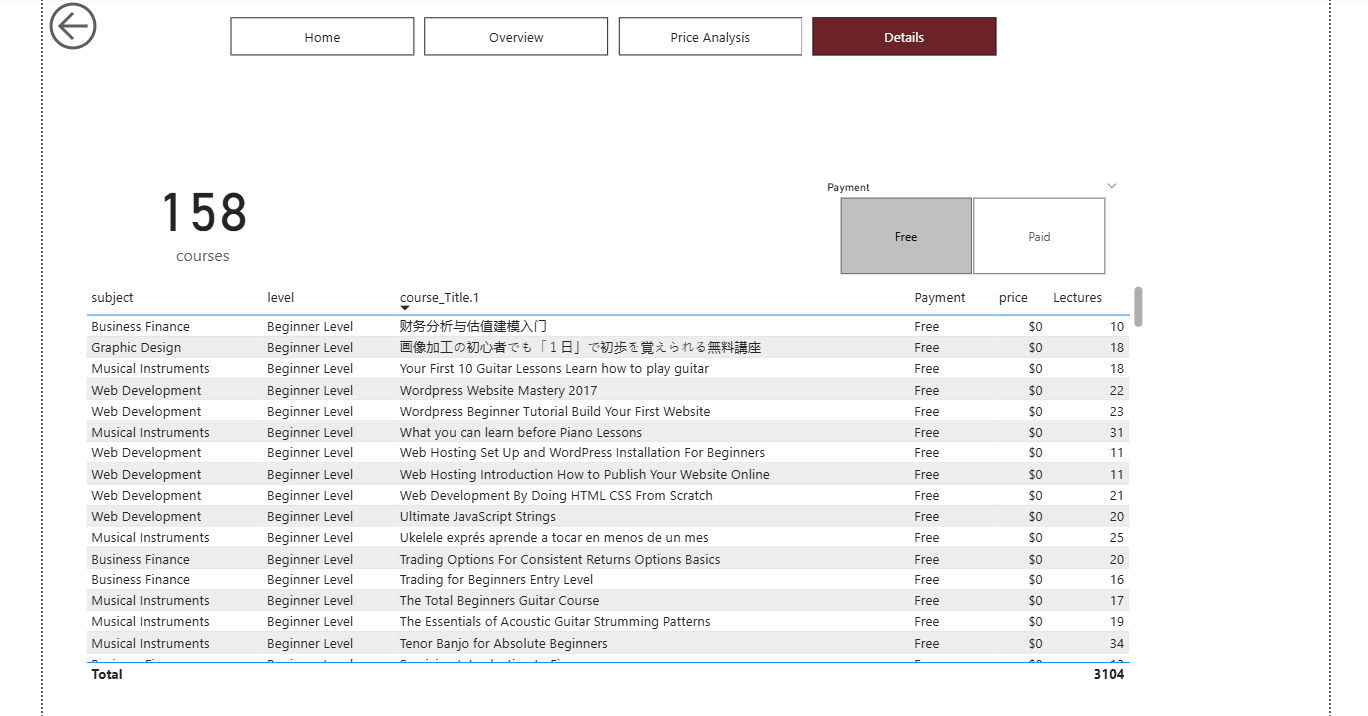

What the dashboard file says about the page in this screenshot:
{"tool":"powerbi","page":{"name":"Details","canvas":[1280,720],"ordinal":3},"visuals":[{"type":"tableEx","fields":{"Values":["udemy.subject","udemy.level","udemy.course_Title.1","udemy.Payment","udemy.price","udemy.Lectures"]},"box":[37.3,283.6,1062.3,405.5],"z":0},{"type":"card","fields":{"Values":["udemy.courses"]},"box":[37.3,166.7,243.8,104.5],"z":1000},{"type":"actionButton","box":[0,0,112,59.7],"z":2000},{"type":"slicer","fields":{"Values":["udemy.Payment"]},"box":[767.5,179.1,313.5,104.5],"z":3000},{"type":"pageNavigator","box":[257.5,11.2,763.8,38.6],"z":4000}]}

Visuals, with their boxes on the page's 1280x720 design canvas (x1, y1, x2, y2). These are canvas units, not pixel positions in the 1368x716 screenshot, which may show the page scaled, cropped or inside an application window:
tableEx - udemy.subject x udemy.level: bbox=[37, 284, 1100, 689]
card - udemy.courses: bbox=[37, 167, 281, 271]
actionButton: bbox=[0, 0, 112, 60]
slicer - udemy.Payment: bbox=[768, 179, 1081, 284]
pageNavigator: bbox=[258, 11, 1021, 50]
